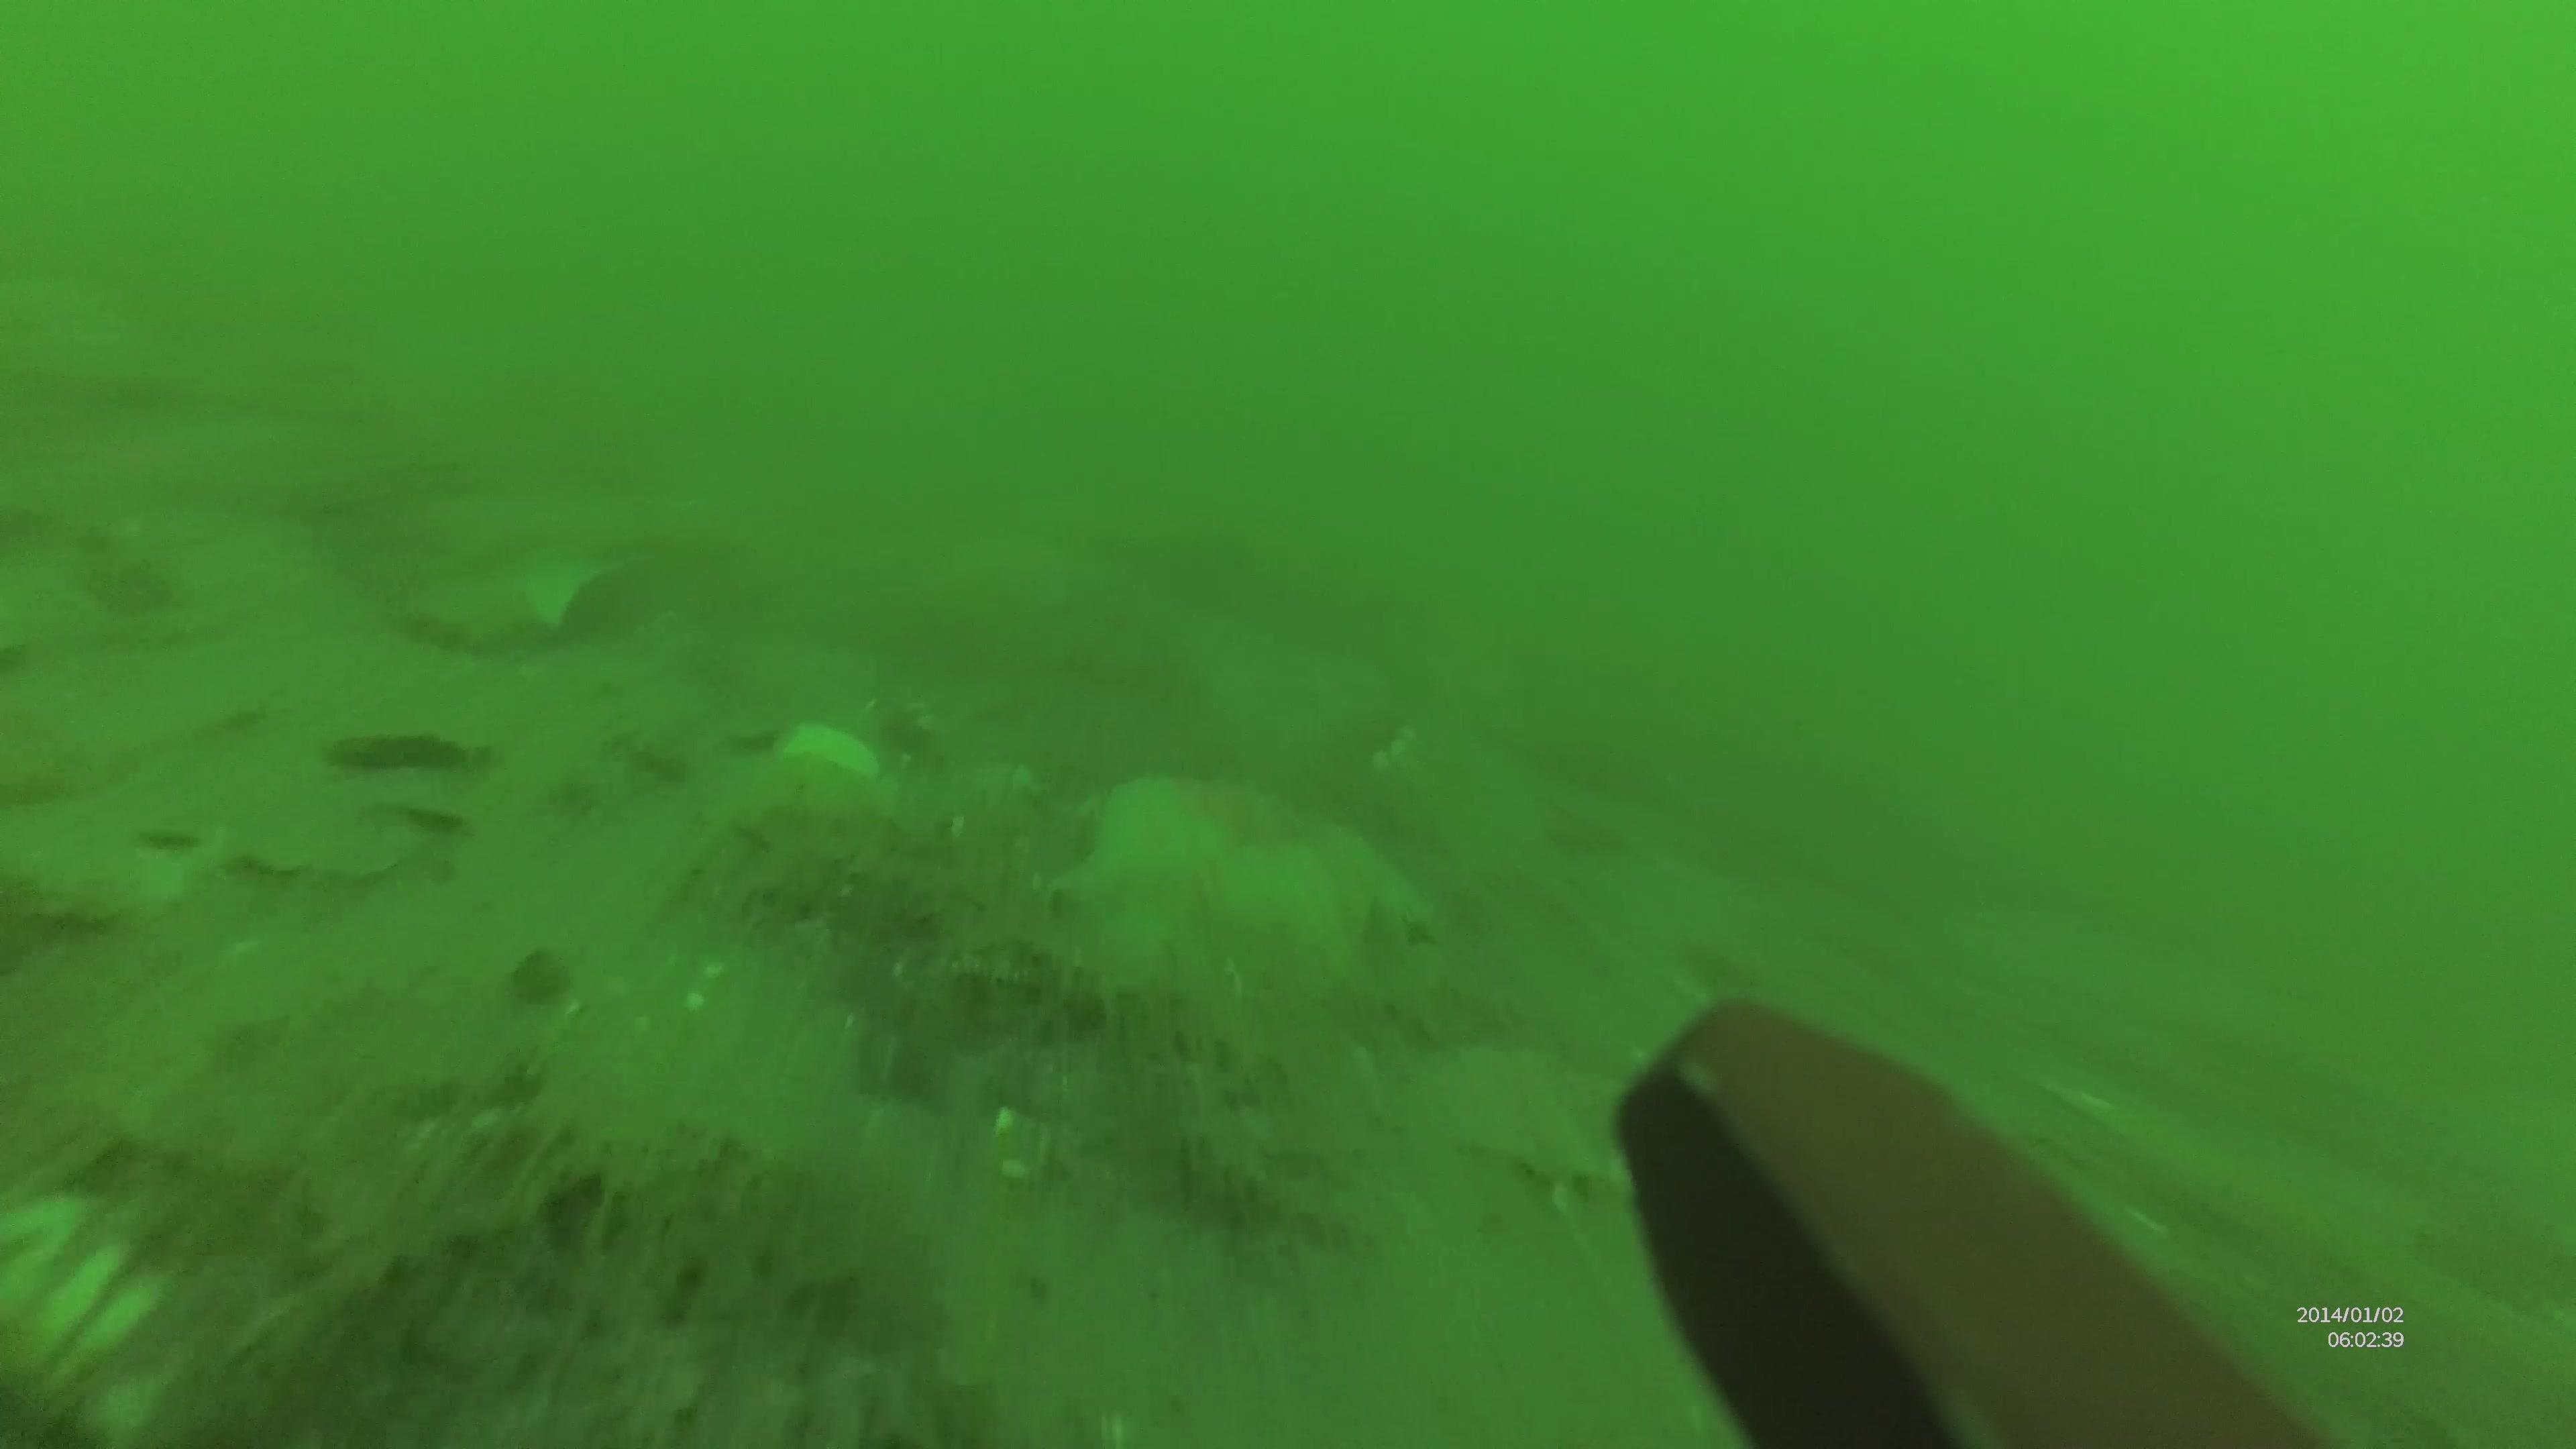starfish: (1014, 741, 1433, 1000), (1430, 1046, 1665, 1215)
